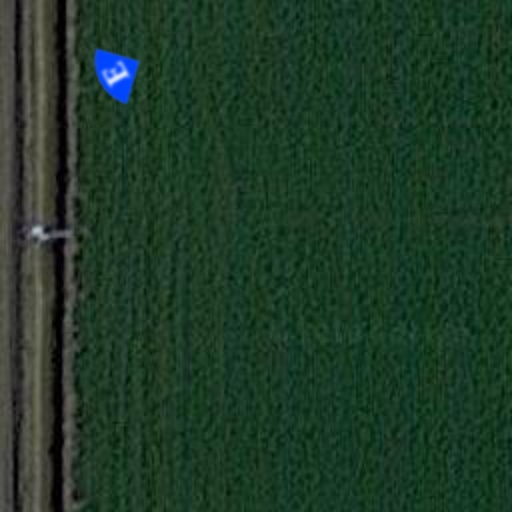quarter_circle: (74, 32, 158, 116)
